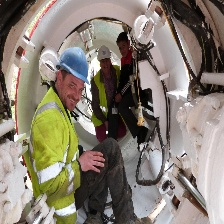helmet: (55, 47, 91, 87), (96, 45, 113, 65)
person: (27, 44, 92, 224)
vest: (29, 94, 73, 208)
